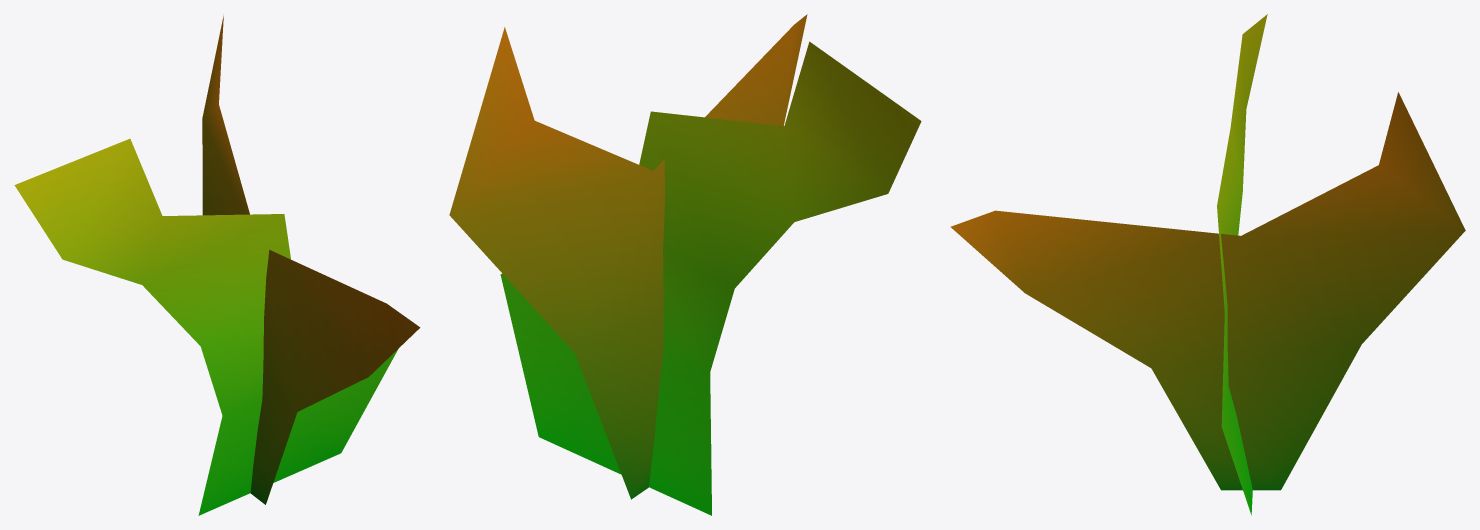
File: Var11Hi19.fbx
3 views of the same model, side by side, from view 1: azimuth 30°, elevation 25°; view 2: azimuth 150°, elevation 25°; view 3: azimuth 270°, elevation 25° (orthographic). The views are drawn at different scales.
Parts seen in each view (by area): view 1: bend1; view 2: bend1; view 3: bend1.
Boxes of the visible parts, <box> form: bend1: <box>14,14,420,515</box>; bend1: <box>449,14,921,515</box>; bend1: <box>950,14,1465,515</box>.
Size of the model in its own units: 1.35 by 1.5 by 1.63.
